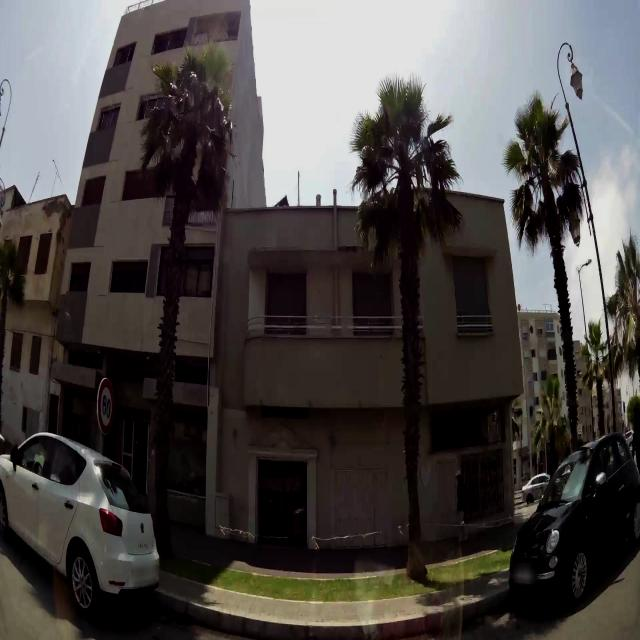car: (0, 430, 161, 620), (507, 430, 640, 611), (521, 472, 551, 505)
